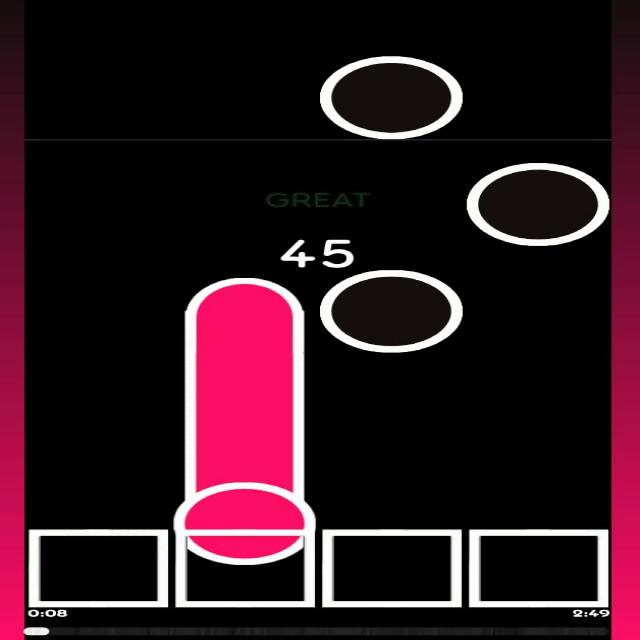end_hold: (180, 268, 306, 318)
note: (464, 163, 612, 248), (317, 269, 463, 353), (317, 57, 460, 139)
start_hold: (173, 469, 314, 566)
